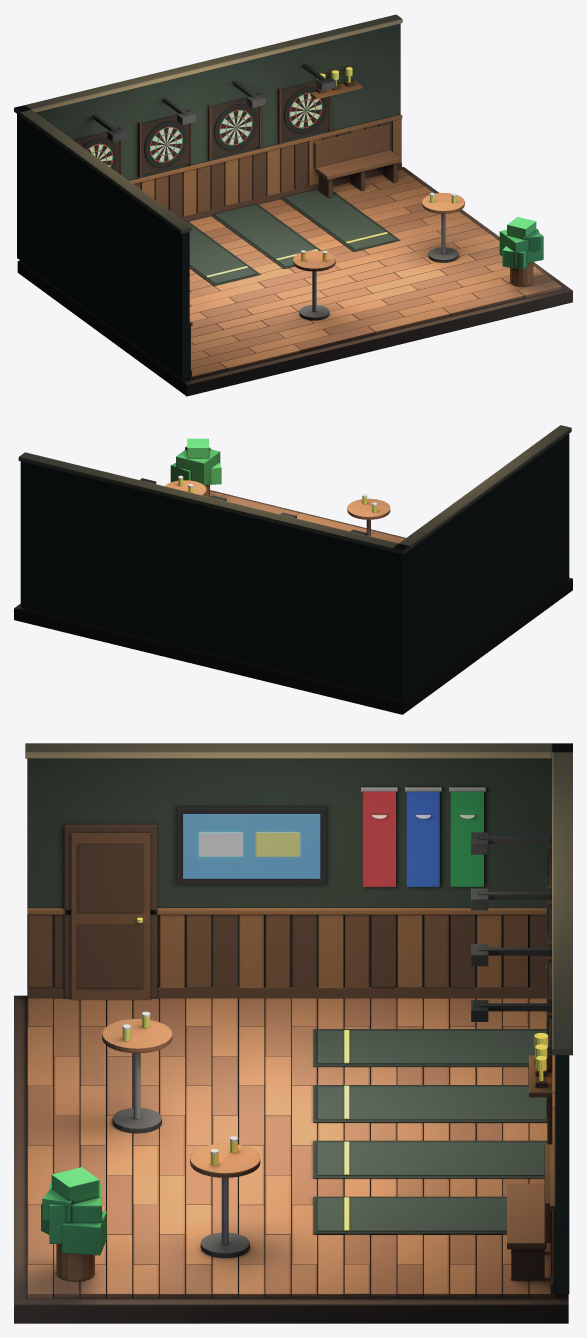
Rendered from scheibenraum.glb.
The picture shows the model from 3 angles, top to bottom: view 1: azimuth 30°, elevation 25°; view 2: azimuth 150°, elevation 25°; view 3: azimuth 270°, elevation 25°; orthographic projection. The views are drawn at different scales.
Parts seen in each view (by area): view 1: Scheibenraum; view 2: Scheibenraum; view 3: Scheibenraum.
Part boxes in pixels (x1,y1,x2,y2): Scheibenraum: (14, 14, 572, 396); Scheibenraum: (14, 425, 572, 714); Scheibenraum: (14, 743, 572, 1323).
Bounding box in the file's own units: 8.35 × 3.38 × 6.35.
Materials: 1 (1 with a texture image).
